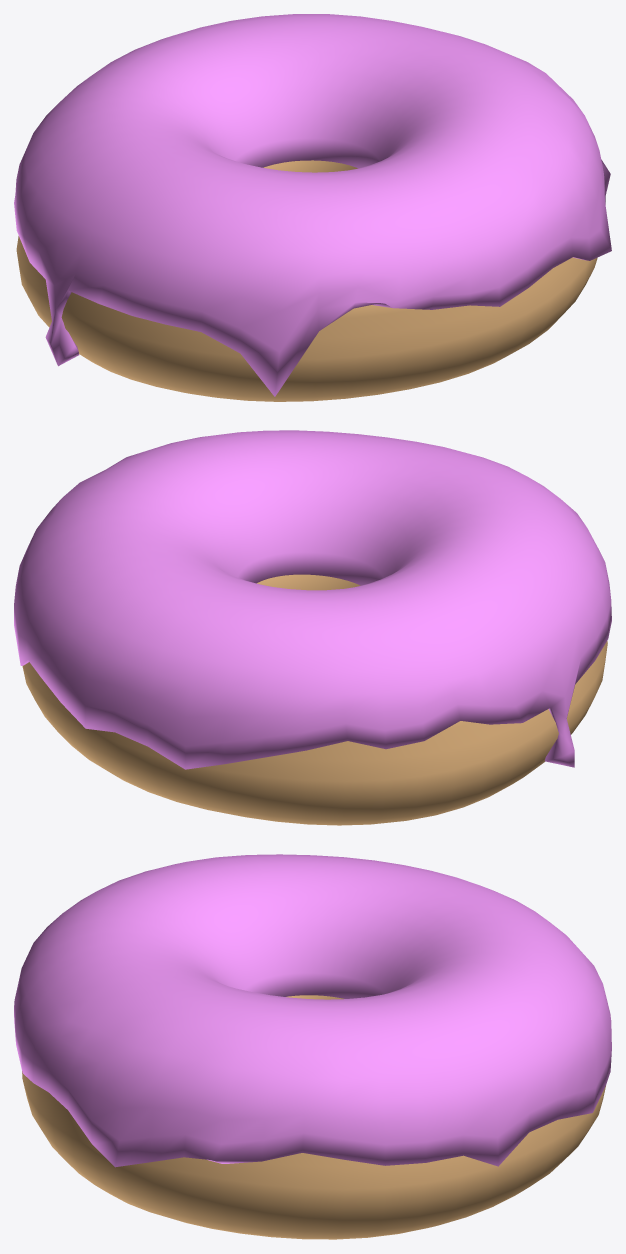
Rendered from donut.glb.
3 renders of one model, top to bottom at view 1: azimuth 30°, elevation 25°; view 2: azimuth 150°, elevation 25°; view 3: azimuth 270°, elevation 25°, orthographic.
Visible parts, largest first — view 1: Torus.001, Torus.003; view 2: Torus.001, Torus.003; view 3: Torus.001, Torus.003.
Part boxes in pixels (box(x1,y1,x2,y2)): Torus.001: box(14, 14, 611, 396); Torus.003: box(16, 160, 597, 401); Torus.001: box(14, 430, 611, 769); Torus.003: box(22, 574, 607, 825); Torus.001: box(14, 854, 611, 1167); Torus.003: box(22, 995, 605, 1239).
Size of the model in its own units: 6.38 by 2.66 by 6.28.
